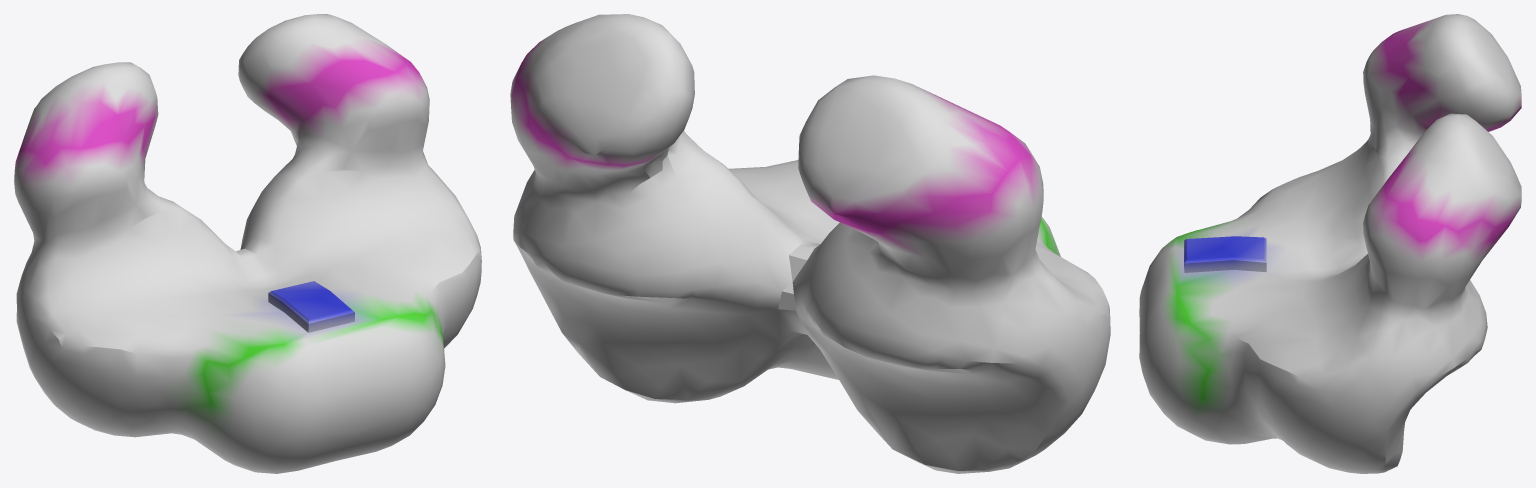
File: metaballlightmapUVpack0_5vertexcolour.fbx
3 views of the same model, side by side, from view 1: azimuth 30°, elevation 25°; view 2: azimuth 150°, elevation 25°; view 3: azimuth 270°, elevation 25° (orthographic). The views are drawn at different scales.
Parts seen in each view (by area): view 1: Mball.001; view 2: Mball.001; view 3: Mball.001.
Part boxes in pixels (x1=…): Mball.001: x1=14, y1=14, x2=481, y2=473; Mball.001: x1=510, y1=14, x2=1110, y2=473; Mball.001: x1=1139, y1=14, x2=1521, y2=473.
Bounding box in the file's own units: 1127 × 827 × 834.
